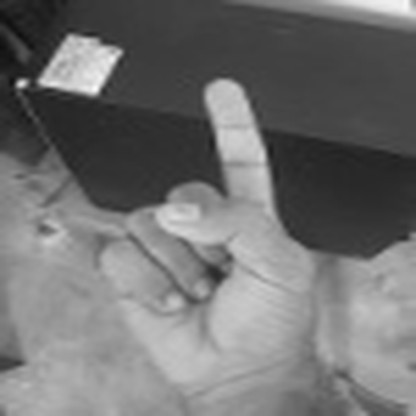d: (96, 70, 323, 392)
